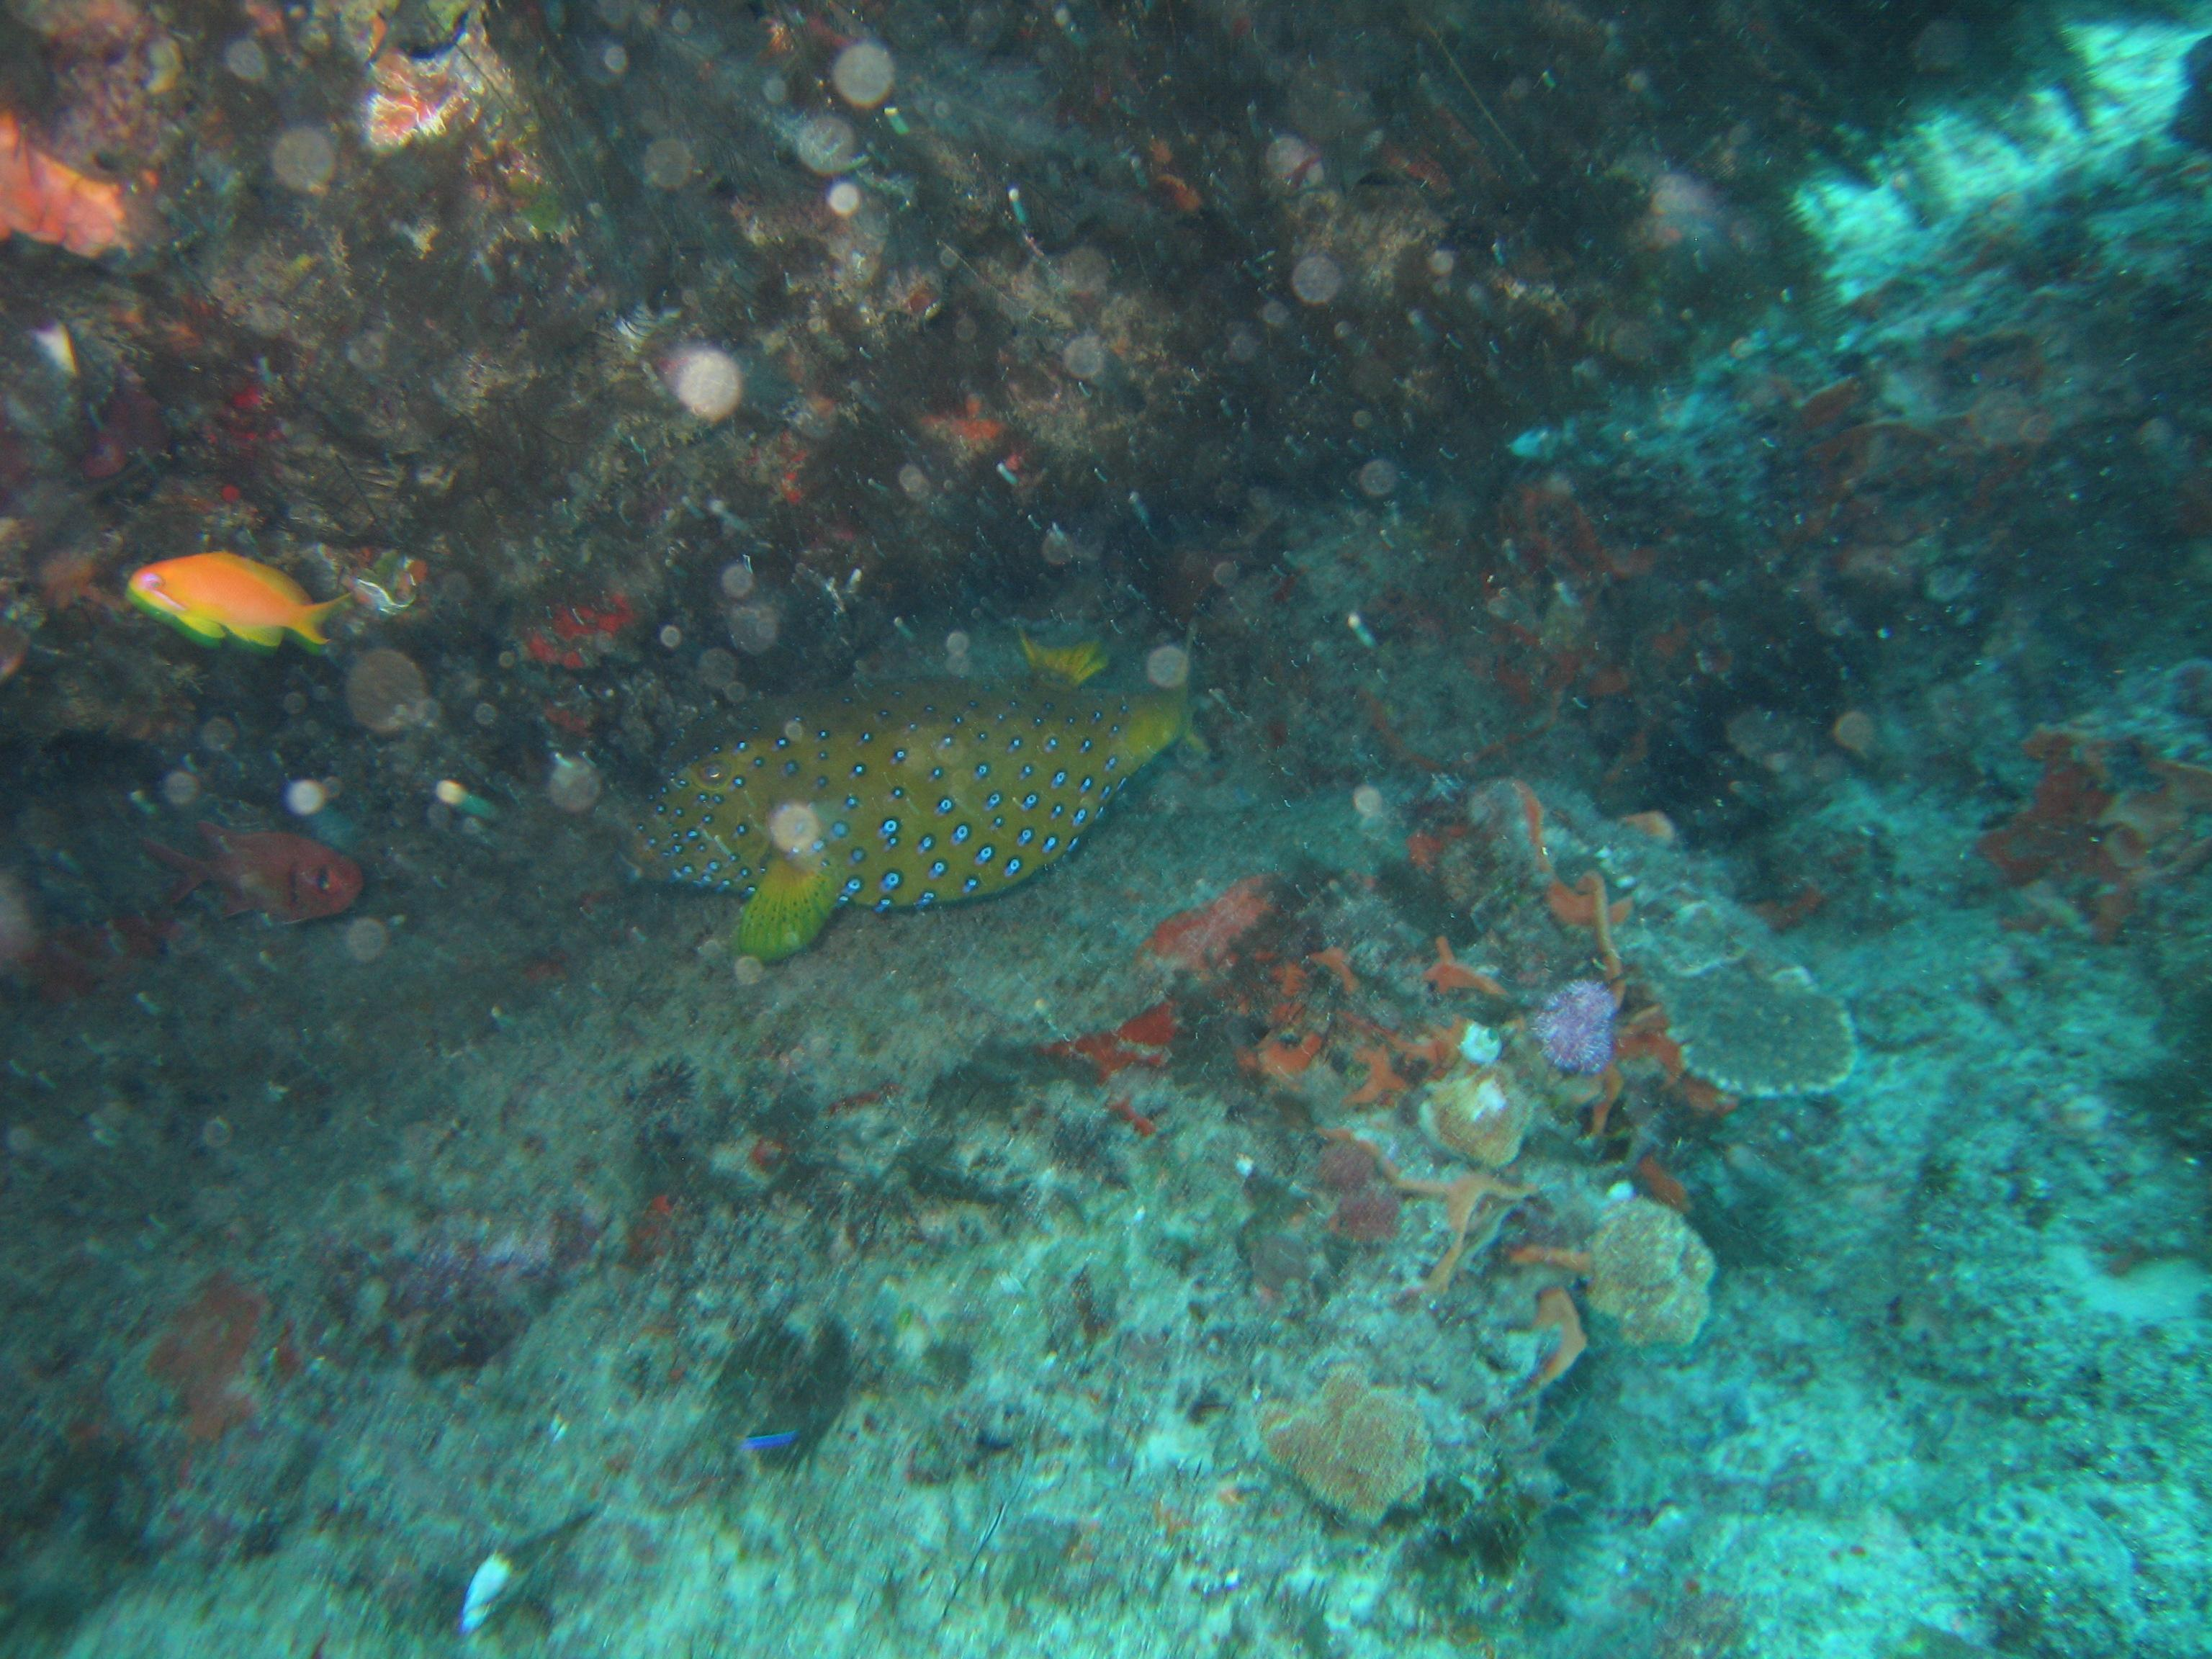Fish: (481, 559, 1258, 1012)
